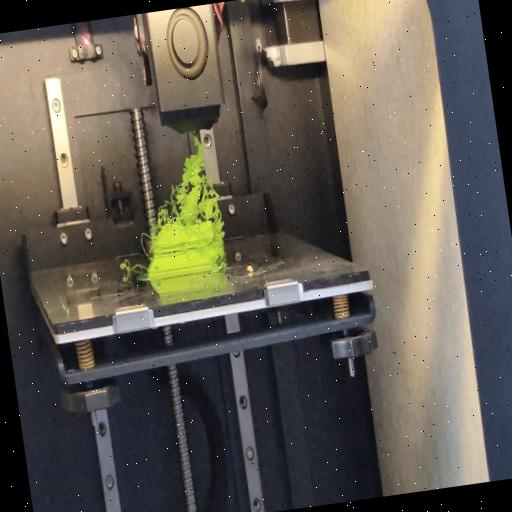spaghetti: (144, 130, 226, 234), (212, 228, 232, 274), (139, 230, 155, 265), (116, 257, 143, 277)
